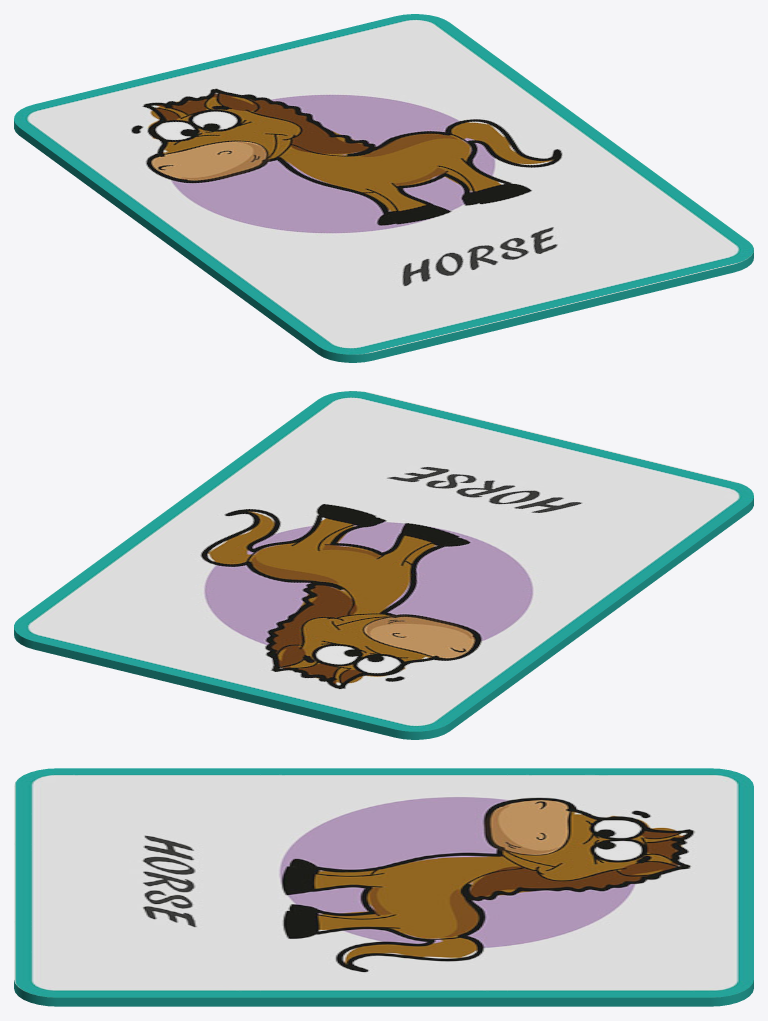
Rendered from carta memory_horse.fbx.
3 views of the same model, one above another, from view 1: azimuth 30°, elevation 25°; view 2: azimuth 150°, elevation 25°; view 3: azimuth 270°, elevation 25° (orthographic). The views are drawn at different scales.
Visible parts, largest first — view 1: pCube1; view 2: pCube1; view 3: pCube1.
Part boxes in pixels (x1,y1,x2,y2): pCube1: (14,14,753,362); pCube1: (14,391,753,739); pCube1: (14,768,753,1006).
Bounding box in the file's own units: 5.5 × 0.1 × 7.5.
1 material, 1 textured.
